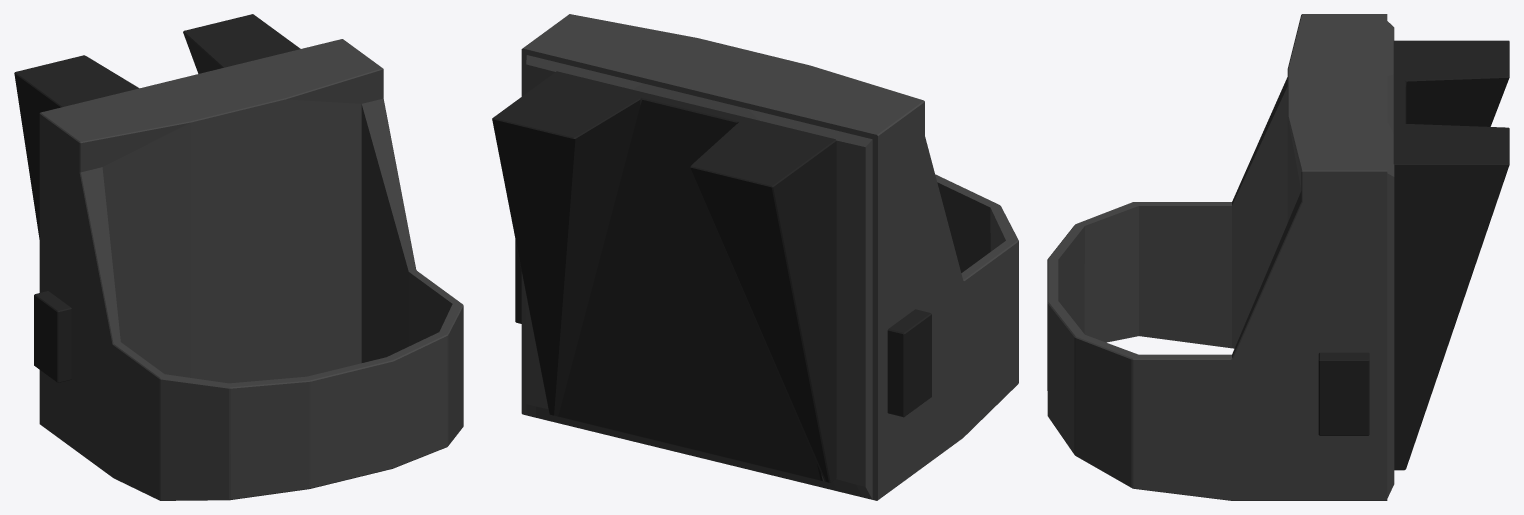
File: ShotgunRedDot.glb
The picture shows the model from 3 angles, left to right: view 1: azimuth 30°, elevation 25°; view 2: azimuth 150°, elevation 25°; view 3: azimuth 270°, elevation 25°; orthographic projection. The views are drawn at different scales.
Visible parts, largest first — view 1: ShotgunRedDot; view 2: ShotgunRedDot; view 3: ShotgunRedDot.
Part boxes in pixels (left/top/right/bottom): ShotgunRedDot: left=14, top=14, right=463, bottom=500; ShotgunRedDot: left=492, top=14, right=1018, bottom=500; ShotgunRedDot: left=1047, top=14, right=1509, bottom=500.
Size of the model in its own units: 1.04 by 0.933 by 1.18.
1 material, 1 textured.
